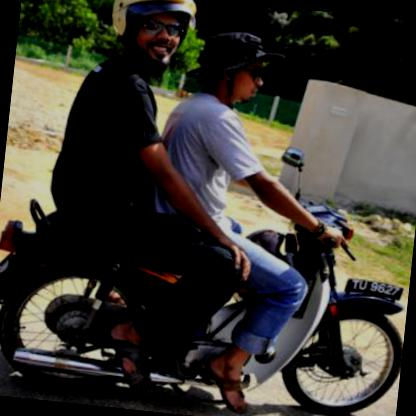motorcycle: (0, 112, 374, 384)
